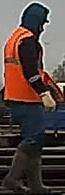gloves: (39, 90, 56, 112)
vest: (2, 26, 43, 102)
